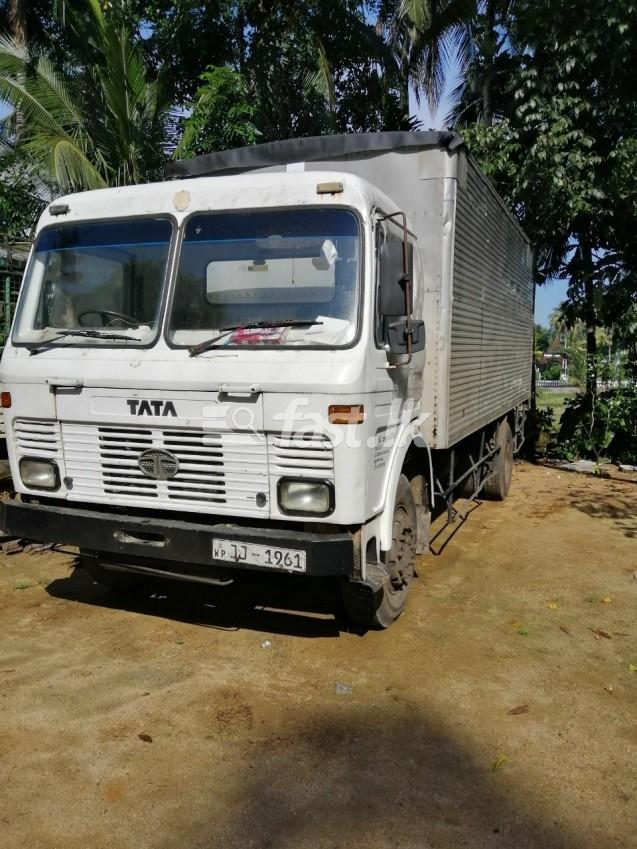truck: (1, 129, 534, 631)
